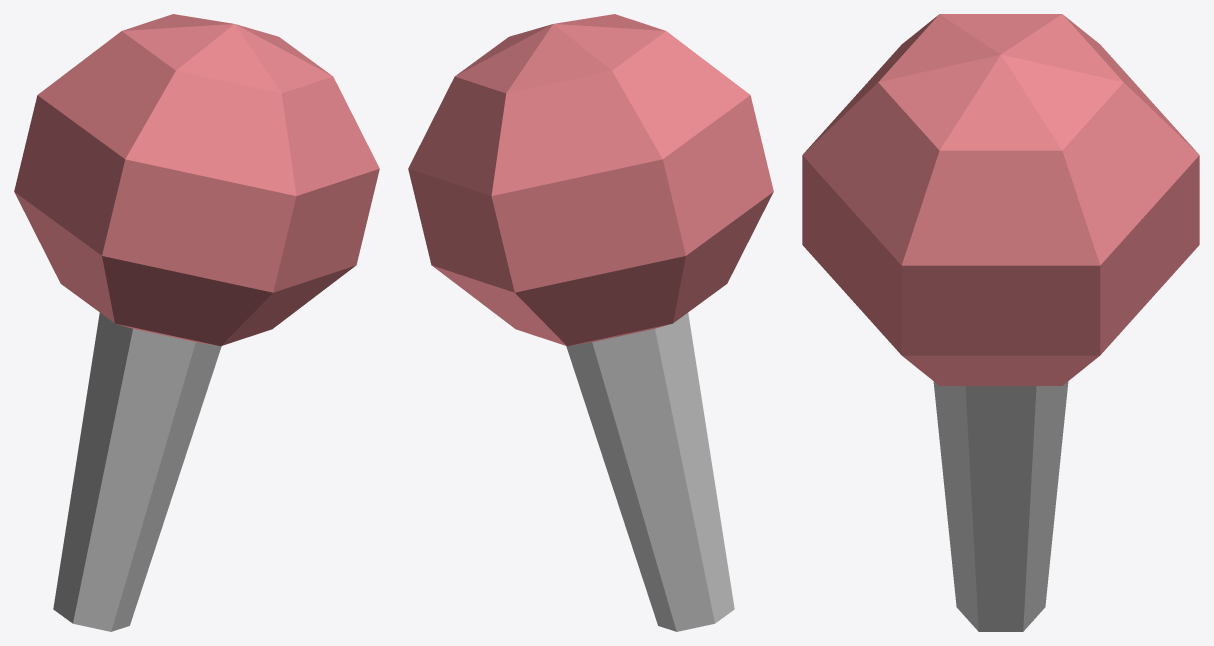
The picture shows the model from 3 angles, left to right: view 1: azimuth 30°, elevation 25°; view 2: azimuth 150°, elevation 25°; view 3: azimuth 270°, elevation 25°; orthographic projection. The views are drawn at different scales.
Visible parts, largest first — view 1: 圓形; view 2: 圓形; view 3: 圓形.
Boxes of the visible parts, x1=… form: 圓形: x1=14, y1=14, x2=379, y2=631; 圓形: x1=408, y1=14, x2=773, y2=631; 圓形: x1=802, y1=14, x2=1199, y2=631.
Bounding box in the file's own units: 191 × 372 × 209.
